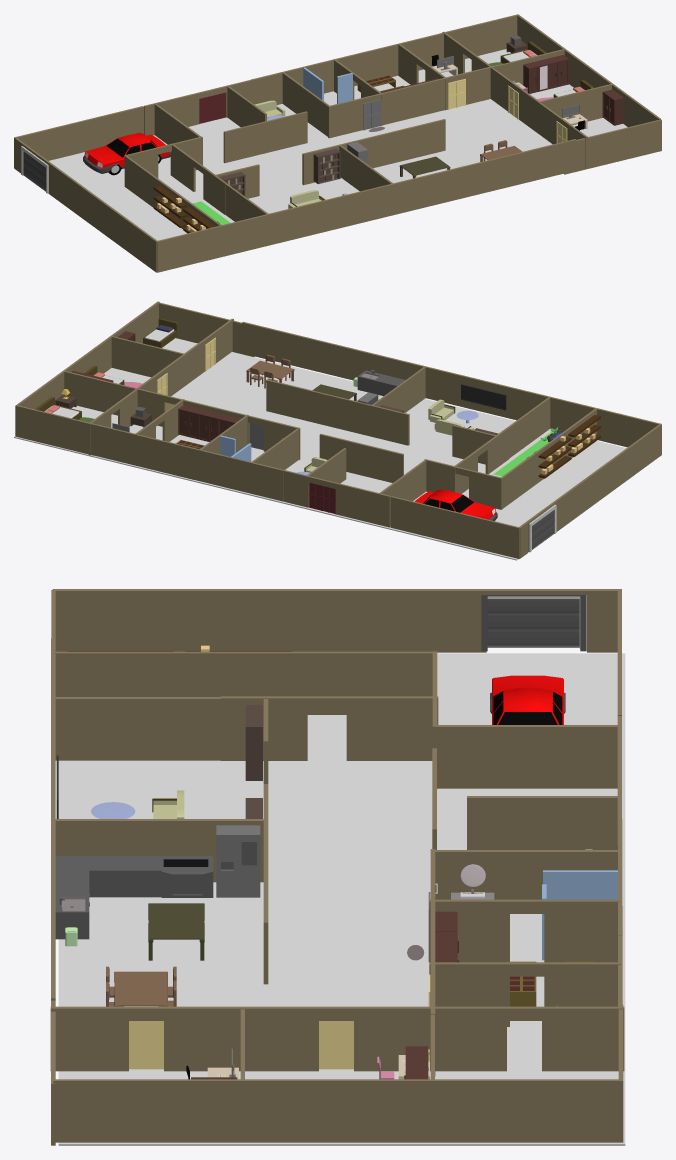
The model's file is Level 4.fbx.
3 renders of one model, top to bottom at view 1: azimuth 30°, elevation 25°; view 2: azimuth 150°, elevation 25°; view 3: azimuth 270°, elevation 25°, orthographic. The views are drawn at different scales.
Parts seen in each view (by area): view 1: Cube.069, Cube.062, Cube.107, Cube.094, Cube.044, Cube.025, Car, Cube.017, Cube.071, Cube.037, Cube.020, Cube.008 (+23 smaller); view 2: Cube.069, Cube.062, Cube.094, Cube.107, Cube.103, Cube.002, Cube.071, Cube.008, Cube.015, Cube.017, Cube.065, Cube.009 (+21 smaller); view 3: Cube.062, Cube.069, Cube.071, Cube.073, Cube.100, Cube.065, Cube.017, Cube.009, Cube.022, Cube.020, Cube.081, Cube.108 (+13 smaller).
Boxes of the visible parts, bbox=[...] form: Cube.069: bbox=[14, 14, 661, 272]; Cube.062: bbox=[49, 49, 627, 240]; Cube.107: bbox=[223, 111, 307, 163]; Cube.094: bbox=[344, 119, 445, 168]; Cube.044: bbox=[328, 85, 413, 138]; Cube.025: bbox=[413, 65, 497, 117]; Car: bbox=[83, 132, 170, 175]; Cube.017: bbox=[170, 143, 226, 214]; Cube.071: bbox=[125, 156, 221, 229]; Cube.037: bbox=[282, 72, 329, 136]; Cube.020: bbox=[490, 67, 539, 133]; Cube.008: bbox=[540, 83, 613, 125]; Cube.069: bbox=[15, 301, 661, 558]; Cube.062: bbox=[14, 338, 626, 560]; Cube.094: bbox=[266, 379, 372, 436]; Cube.107: bbox=[319, 434, 403, 482]; Cube.103: bbox=[367, 404, 495, 464]; Cube.002: bbox=[424, 459, 502, 509]; Cube.071: bbox=[501, 408, 597, 508]; Cube.008: bbox=[110, 335, 183, 377]; Cube.015: bbox=[64, 371, 130, 415]; Cube.017: bbox=[453, 427, 509, 493]; Cube.065: bbox=[508, 397, 550, 458]; Cube.009: bbox=[185, 318, 233, 385]; Cube.062: bbox=[58, 653, 625, 1145]; Cube.069: bbox=[51, 589, 623, 1145]; Cube.071: bbox=[54, 651, 432, 714]; Cube.073: bbox=[437, 725, 619, 788]; Cube.100: bbox=[55, 825, 260, 939]; Cube.065: bbox=[53, 697, 222, 760]; Cube.017: bbox=[220, 696, 438, 760]; Cube.009: bbox=[50, 1006, 246, 1071]; Cube.022: bbox=[428, 1006, 624, 1071]; Cube.020: bbox=[241, 1006, 436, 1071]; Cube.081: bbox=[429, 899, 620, 962]; Cube.108: bbox=[467, 796, 619, 849].
Bounding box in the file's own units: 10325 × 641 × 5072.
